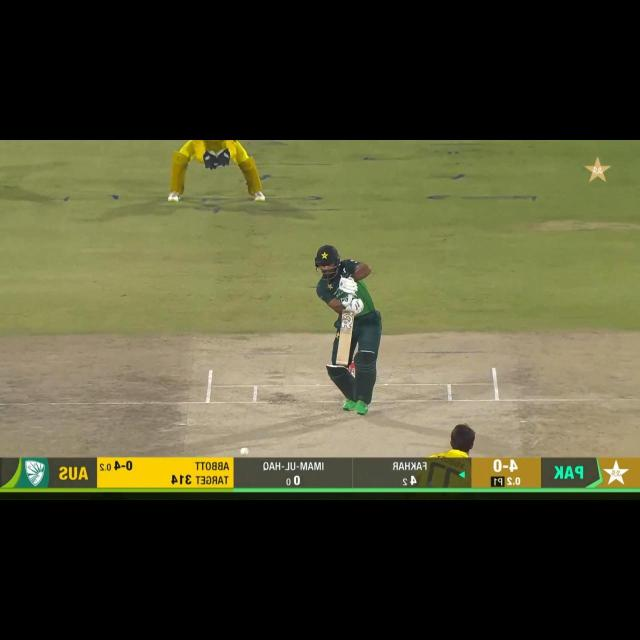bat: (334, 313, 353, 366)
toe: (334, 359, 349, 367)
